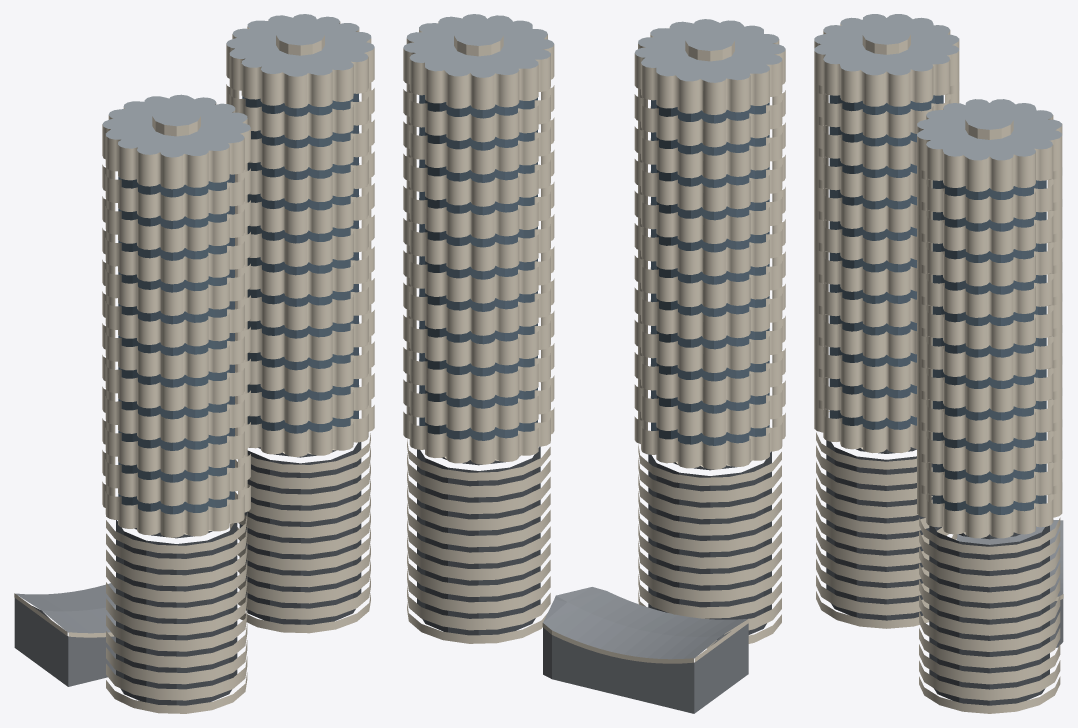
3 views of the same model, side by side, from view 1: azimuth 30°, elevation 25°; view 2: azimuth 150°, elevation 25°; view 3: azimuth 270°, elevation 25° (orthographic). The views are drawn at different scales.
Visible parts, largest first — view 1: marina-city; view 2: marina-city; view 3: marina-city.
Boxes of the visible parts, x1,y1,x2,y2 form: marina-city: [14, 14, 374, 713]; marina-city: [403, 14, 785, 713]; marina-city: [814, 14, 1063, 713].
Size of the model in its own units: 96.3 by 170 by 67.06.
